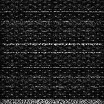lte: (1, 98, 104, 103), (1, 43, 104, 45), (1, 51, 104, 53), (1, 10, 104, 12), (1, 66, 104, 68)
